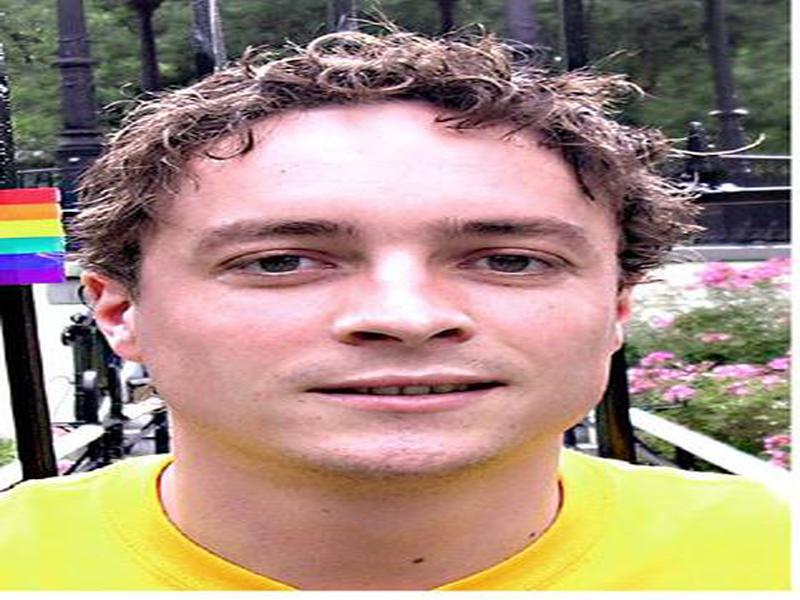without_mask: (133, 155, 617, 482)
